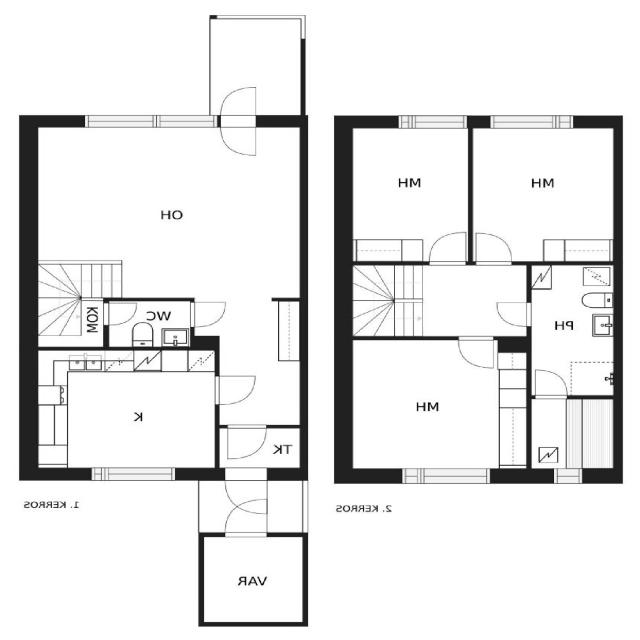door: (102, 296, 195, 349), (216, 82, 264, 160), (220, 490, 273, 542), (220, 466, 272, 518), (206, 369, 261, 409), (219, 422, 271, 462), (454, 333, 499, 374), (182, 296, 232, 332), (427, 227, 470, 267), (473, 228, 515, 266), (529, 365, 571, 401), (490, 298, 537, 329), (99, 298, 140, 328)
window: (77, 110, 215, 132), (482, 110, 580, 134), (84, 463, 184, 486), (402, 466, 499, 488), (397, 111, 471, 132), (550, 468, 587, 484)
zone: (30, 120, 309, 295), (345, 338, 529, 475), (31, 353, 216, 479), (471, 122, 616, 264), (348, 123, 471, 264), (528, 262, 618, 398), (200, 535, 308, 626), (528, 398, 619, 476), (104, 297, 194, 349)
